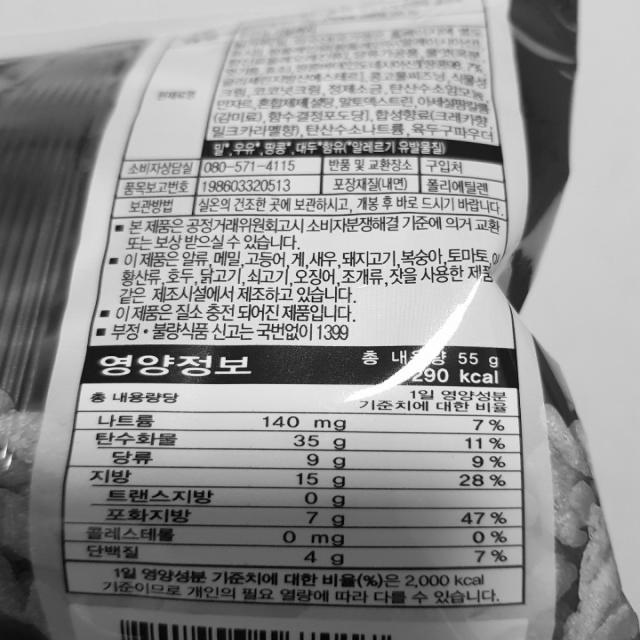Nutrition Label: (43, 332, 540, 614)
